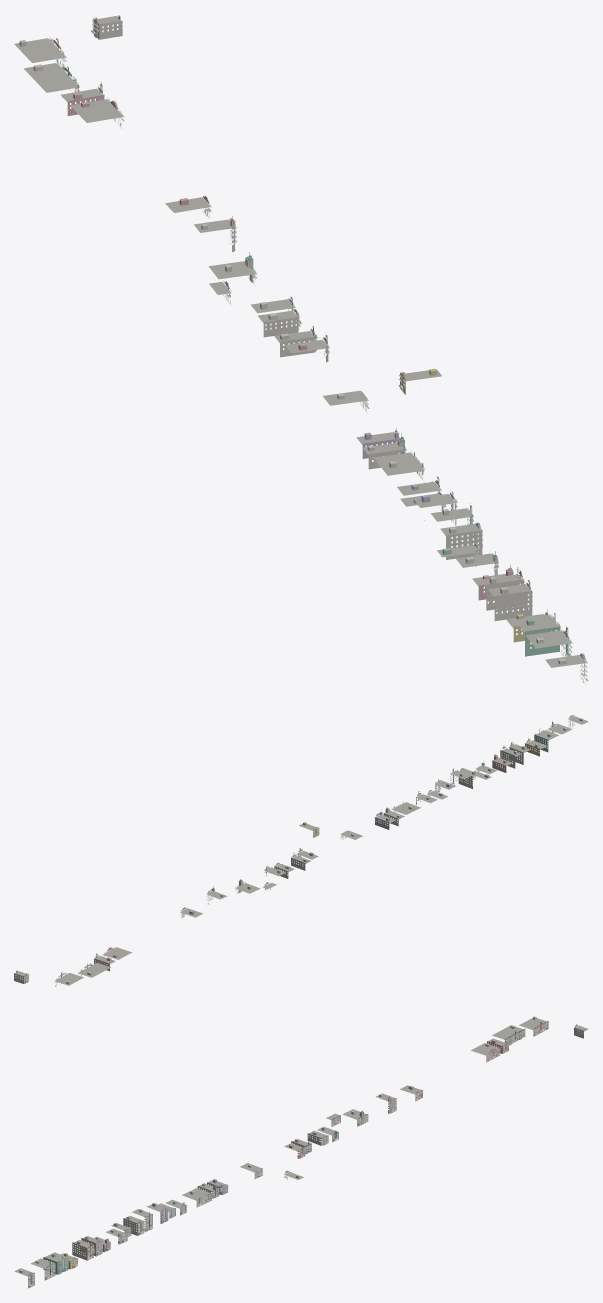
Rendered from district-buildings-low.glb.
3 renders of one model, top to bottom at view 1: azimuth 30°, elevation 25°; view 2: azimuth 150°, elevation 25°; view 3: azimuth 330°, elevation 25°, orthographic. The views are drawn at different scales.
Visible parts, largest first — view 1: OceanDrive_paint (×5); view 2: OceanDrive_paint (×5); view 3: OceanDrive_paint (×5).
Part boxes in pixels (x1=…): OceanDrive_paint (×5): x1=14, y1=15, x2=588, y2=682; OceanDrive_paint (×5): x1=14, y1=715, x2=588, y2=985; OceanDrive_paint (×5): x1=14, y1=1016, x2=588, y2=1288.
Size of the model in its own units: 246 by 25.15 by 958.
